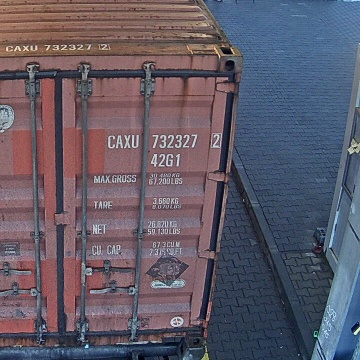serial_id: (108, 134, 219, 148)
